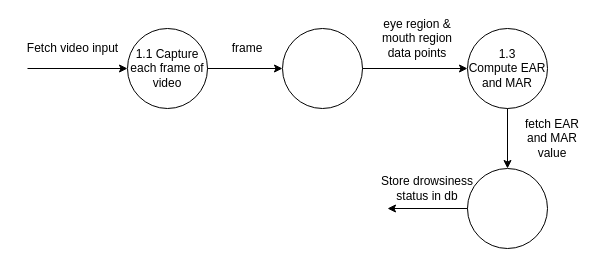
This 604x266 diagram has some shape labels left out. The shapes that lost their labels are listed below. From the top down, each one's centre as x and y in pixels, then its label:
At [322,68]: "1.2 Find region of interest".
At [507,208]: "1.4 Check Threshold Condition".
